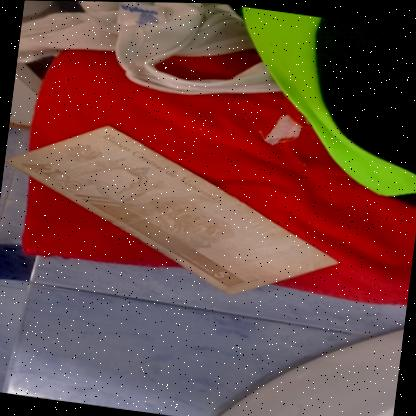five-back-vef: (0, 110, 352, 308)
